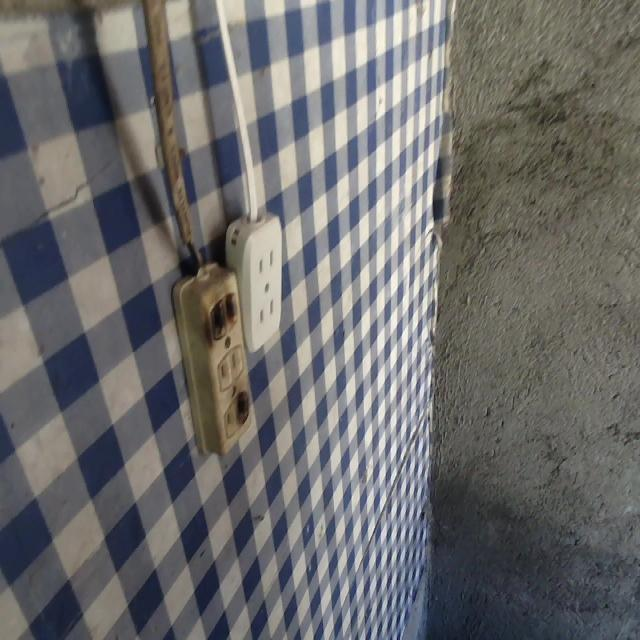-: (205, 288, 241, 340), (233, 388, 252, 429)
